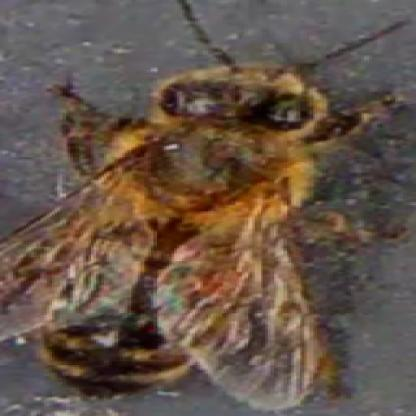bee: (17, 67, 339, 397)
